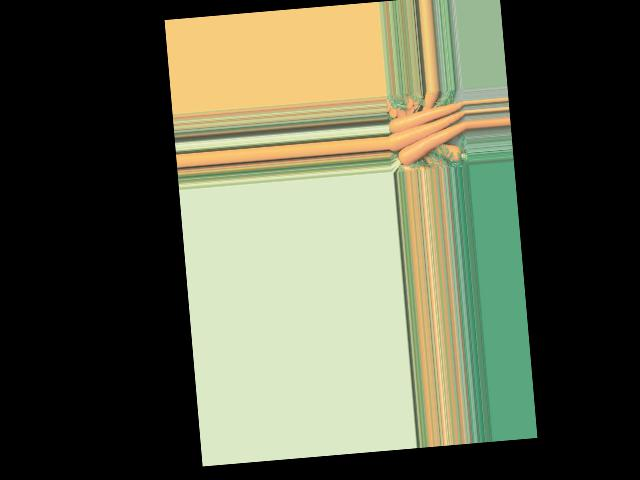carrot: (397, 121, 467, 167)
